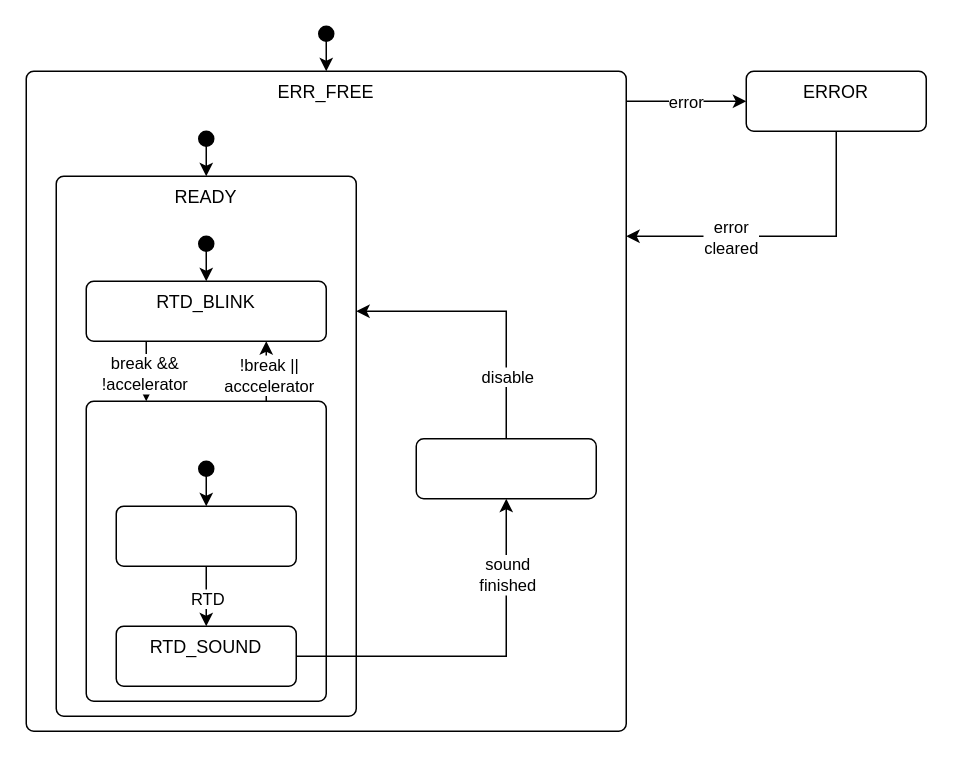
This 953x758 diagram has some shape labels left out. The shapes that lost their labels are listed below. From the top down, each one's box as (x1, y1, x2, y2) in pixels, then its label:
(415, 437, 596, 499): RUNNING
(115, 505, 296, 566): RTD_READY
(85, 400, 326, 701): RTD_STEADY
